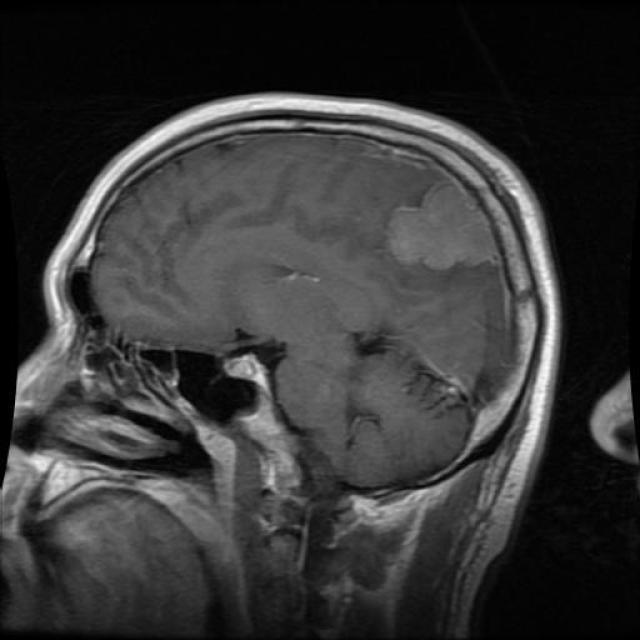meningioma: (389, 186, 484, 270)
